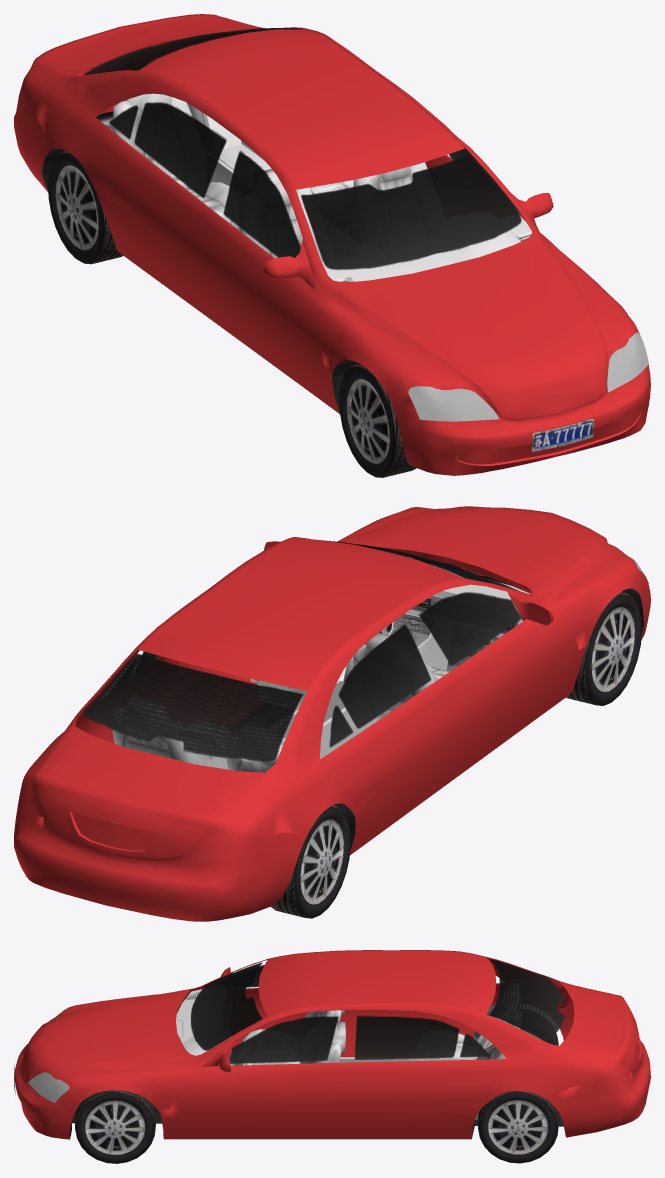
Rendered from 小车19.dd86dae8.glb.
The picture shows the model from 3 angles, top to bottom: view 1: azimuth 30°, elevation 25°; view 2: azimuth 150°, elevation 25°; view 3: azimuth 270°, elevation 25°; orthographic projection. The views are drawn at different scales.
Visible parts, largest first — view 1: CAR-224, CAR-218, CAR-217; view 2: CAR-224, CAR-218, CAR-217; view 3: CAR-224, CAR-216, CAR-215.
Part boxes in pixels (box(x1,y1,x2,y2)): CAR-224: box(14, 14, 650, 475); CAR-218: box(339, 363, 416, 477); CAR-217: box(48, 150, 123, 264); CAR-224: box(14, 506, 650, 921); CAR-218: box(566, 591, 641, 705); CAR-217: box(271, 805, 350, 918); CAR-224: box(14, 950, 650, 1139); CAR-216: box(75, 1090, 155, 1163); CAR-215: box(478, 1091, 558, 1163).
Size of the model in its own units: 2.23 by 1.59 by 6.19.
9 materials, 6 textured.
